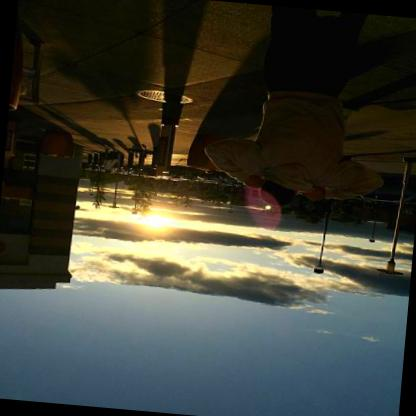manholes: (135, 79, 196, 116)
